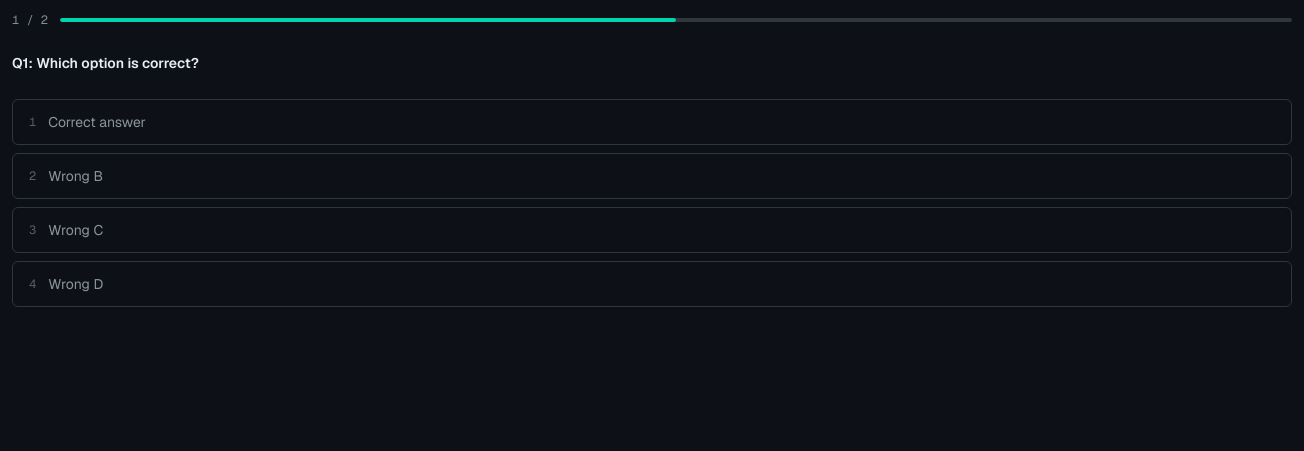
Scenario: Quiz › shows explanation and marks wrong option red on incorrect answer
Click the radio button labelled "2 Wrong B".
click(76, 176)  # box [12,153,1292,199]
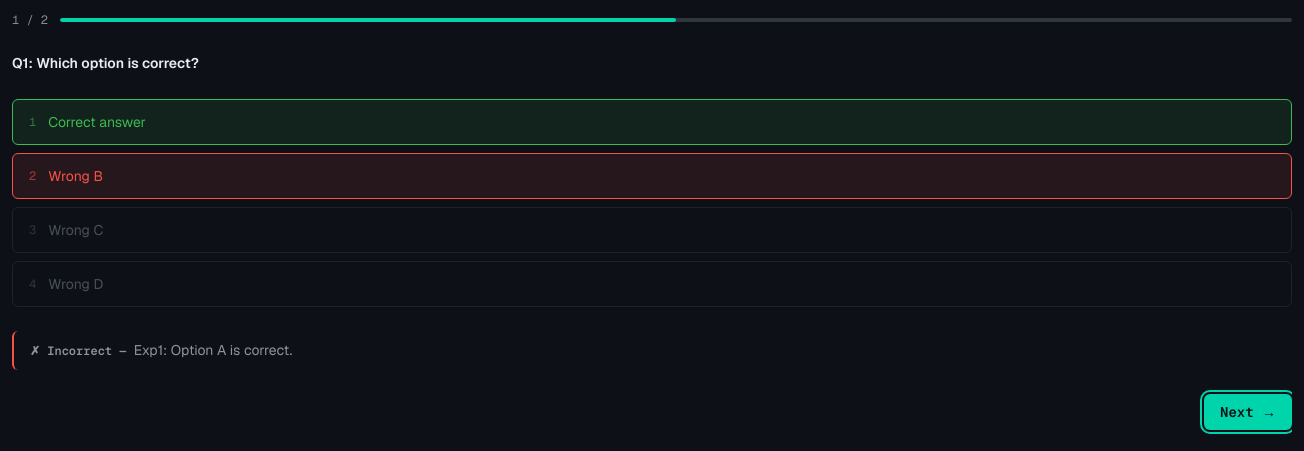
Expected: the text "✗ Incorrect — Exp1: Option A is correct." is shown, [12,331,1292,370]
Expected: the text "✗ Incorrect —" is shown, [30,343,134,359]
